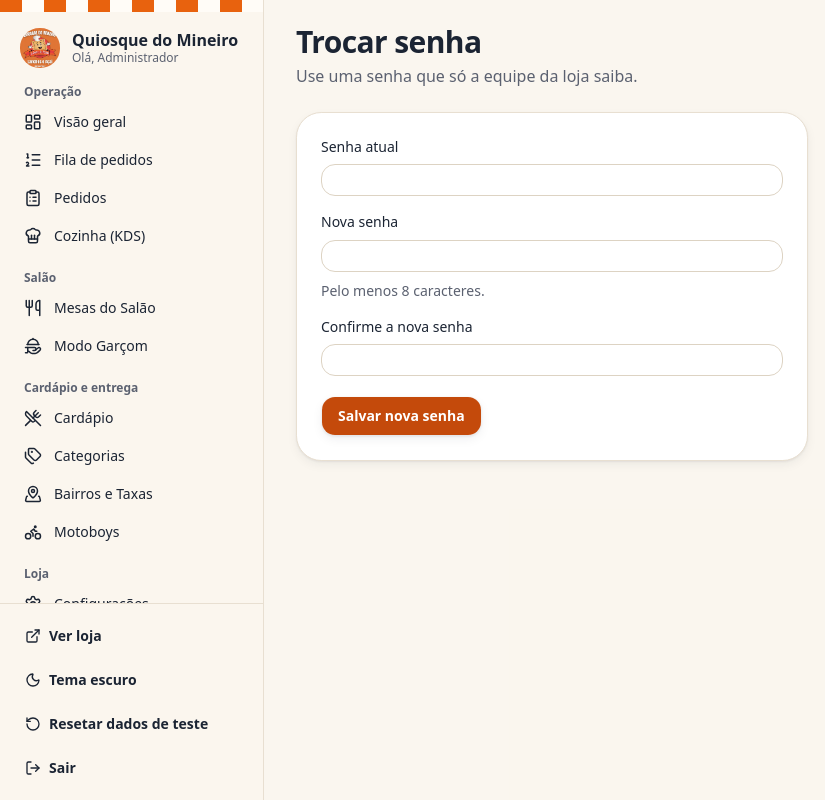
Test: Trocar senha › confirmação diferente avisa antes de enviar
Type "clickpedido" into the password field labelled "Senha atual" at [552, 180], box [321,164,783,196]
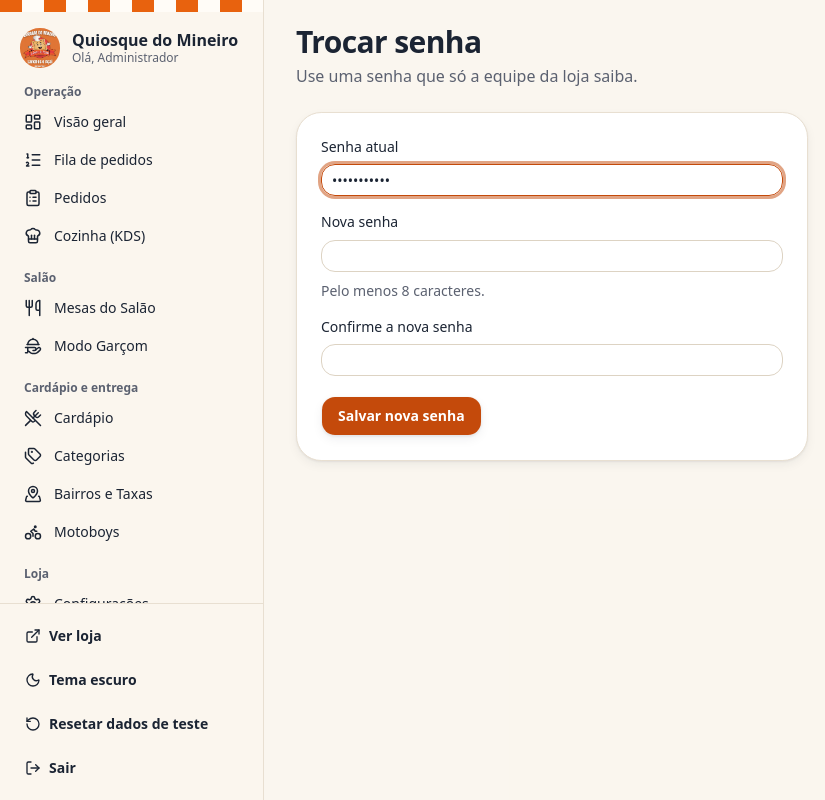
Type "novasenha123" into the password field labelled "Nova senha" at [552, 256], box [321,240,783,272]
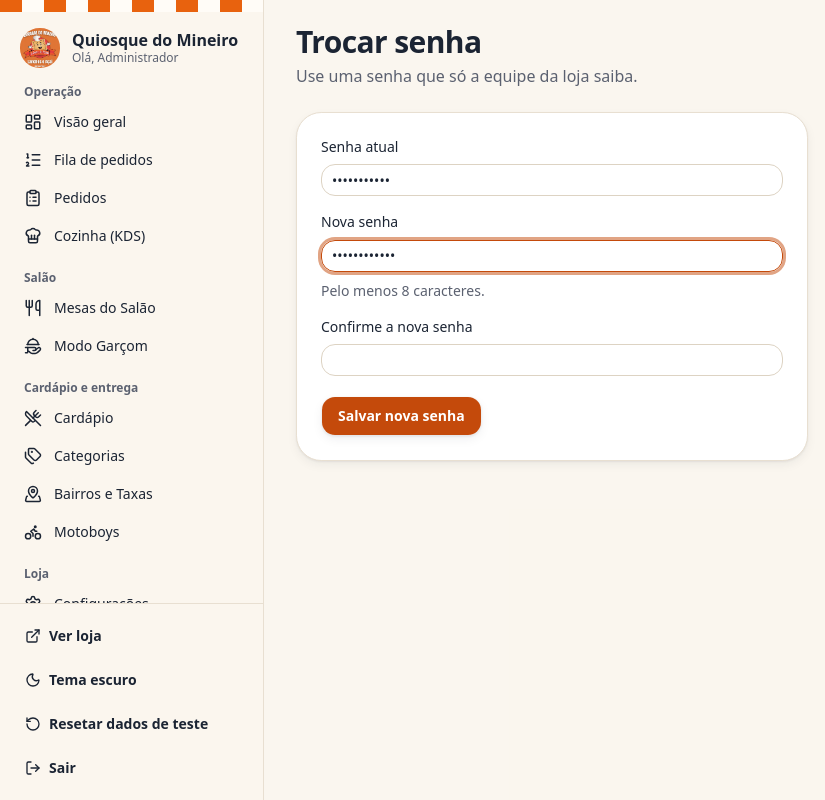
Type "outra-coisa" into the password field labelled "Confirme a nova senha" at [552, 360], box [321,344,783,376]
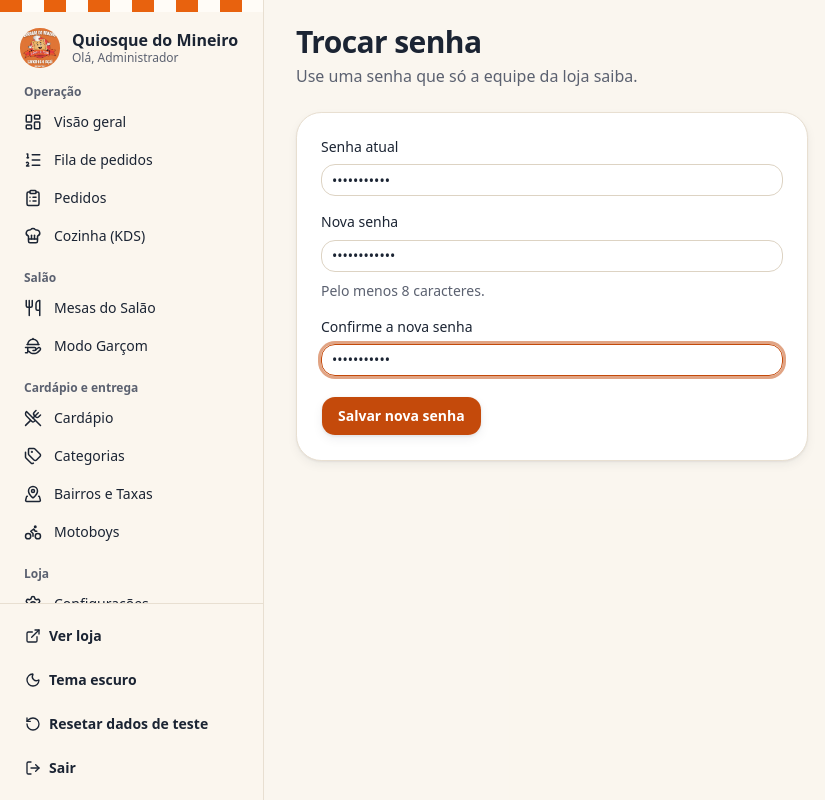
Click the button "Salvar nova senha" at [401, 416], box [321,396,482,436]
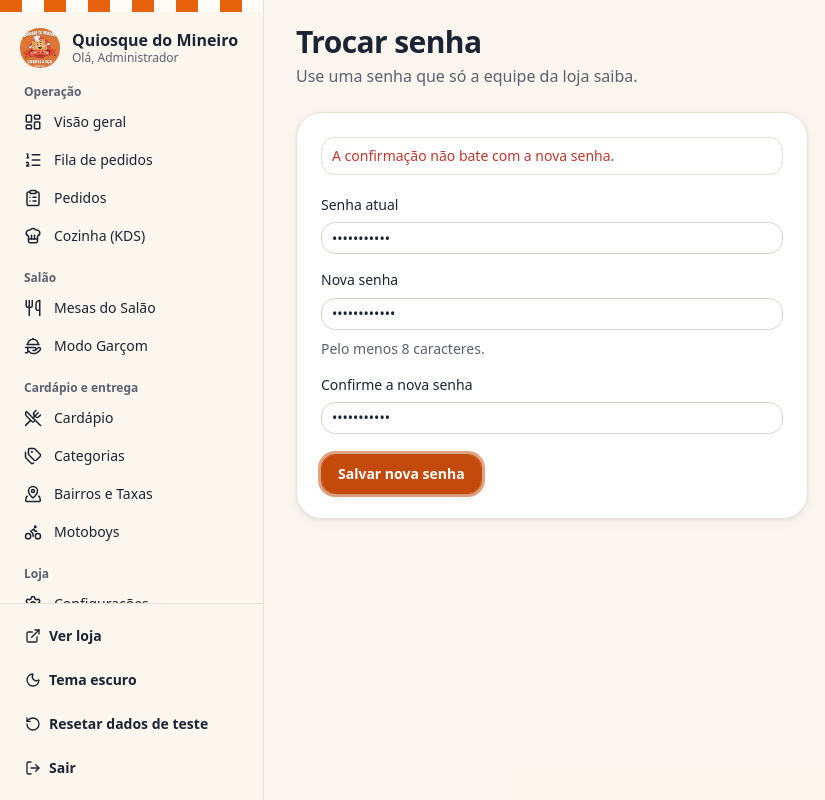
Result: the message reads "A confirmação não bate com a nova senha." at [332,146,614,165]
